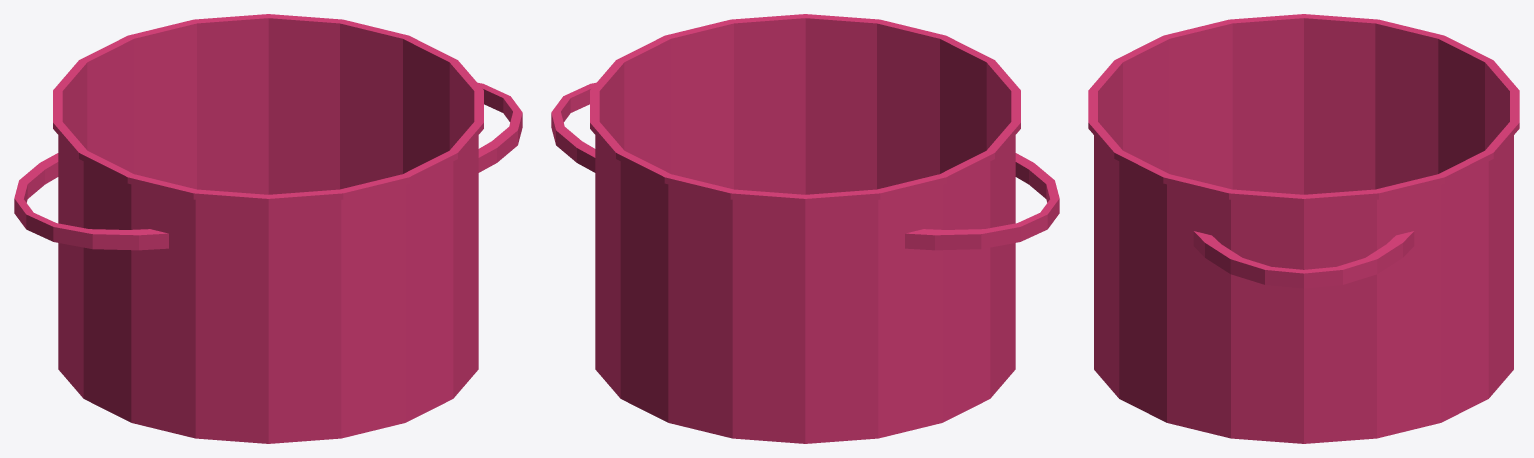
The model's file is Pot.fbx.
3 views of the same model, side by side, from view 1: azimuth 30°, elevation 25°; view 2: azimuth 150°, elevation 25°; view 3: azimuth 270°, elevation 25° (orthographic).
Parts seen in each view (by area): view 1: Pot; view 2: Pot; view 3: Pot.
Part boxes in pixels (left/top/right/bottom): Pot: left=14, top=14, right=522, bottom=443; Pot: left=551, top=14, right=1059, bottom=443; Pot: left=1088, top=14, right=1519, bottom=443.
Bounding box in the file's own units: 52.75 × 25.73 × 40.64.
